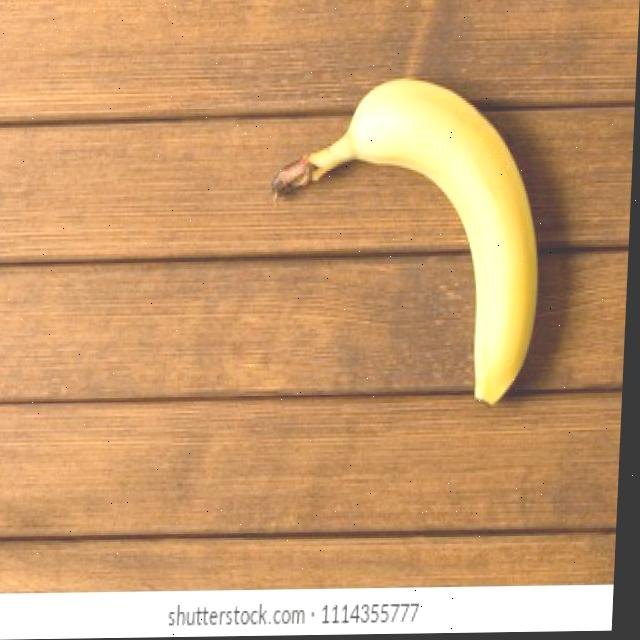banana: (262, 71, 560, 416)
